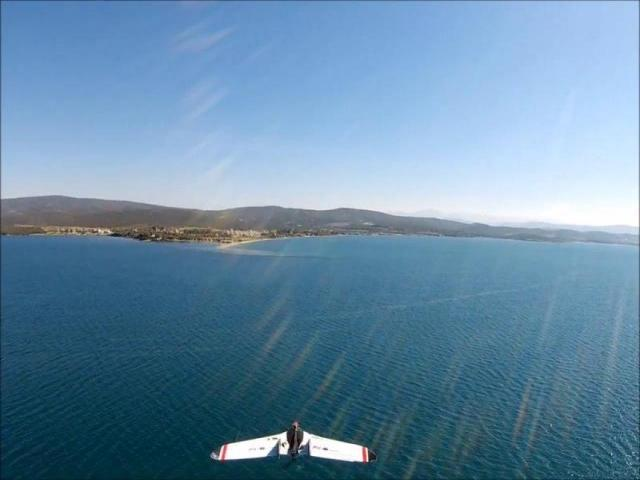hedef: (208, 412, 380, 480)
